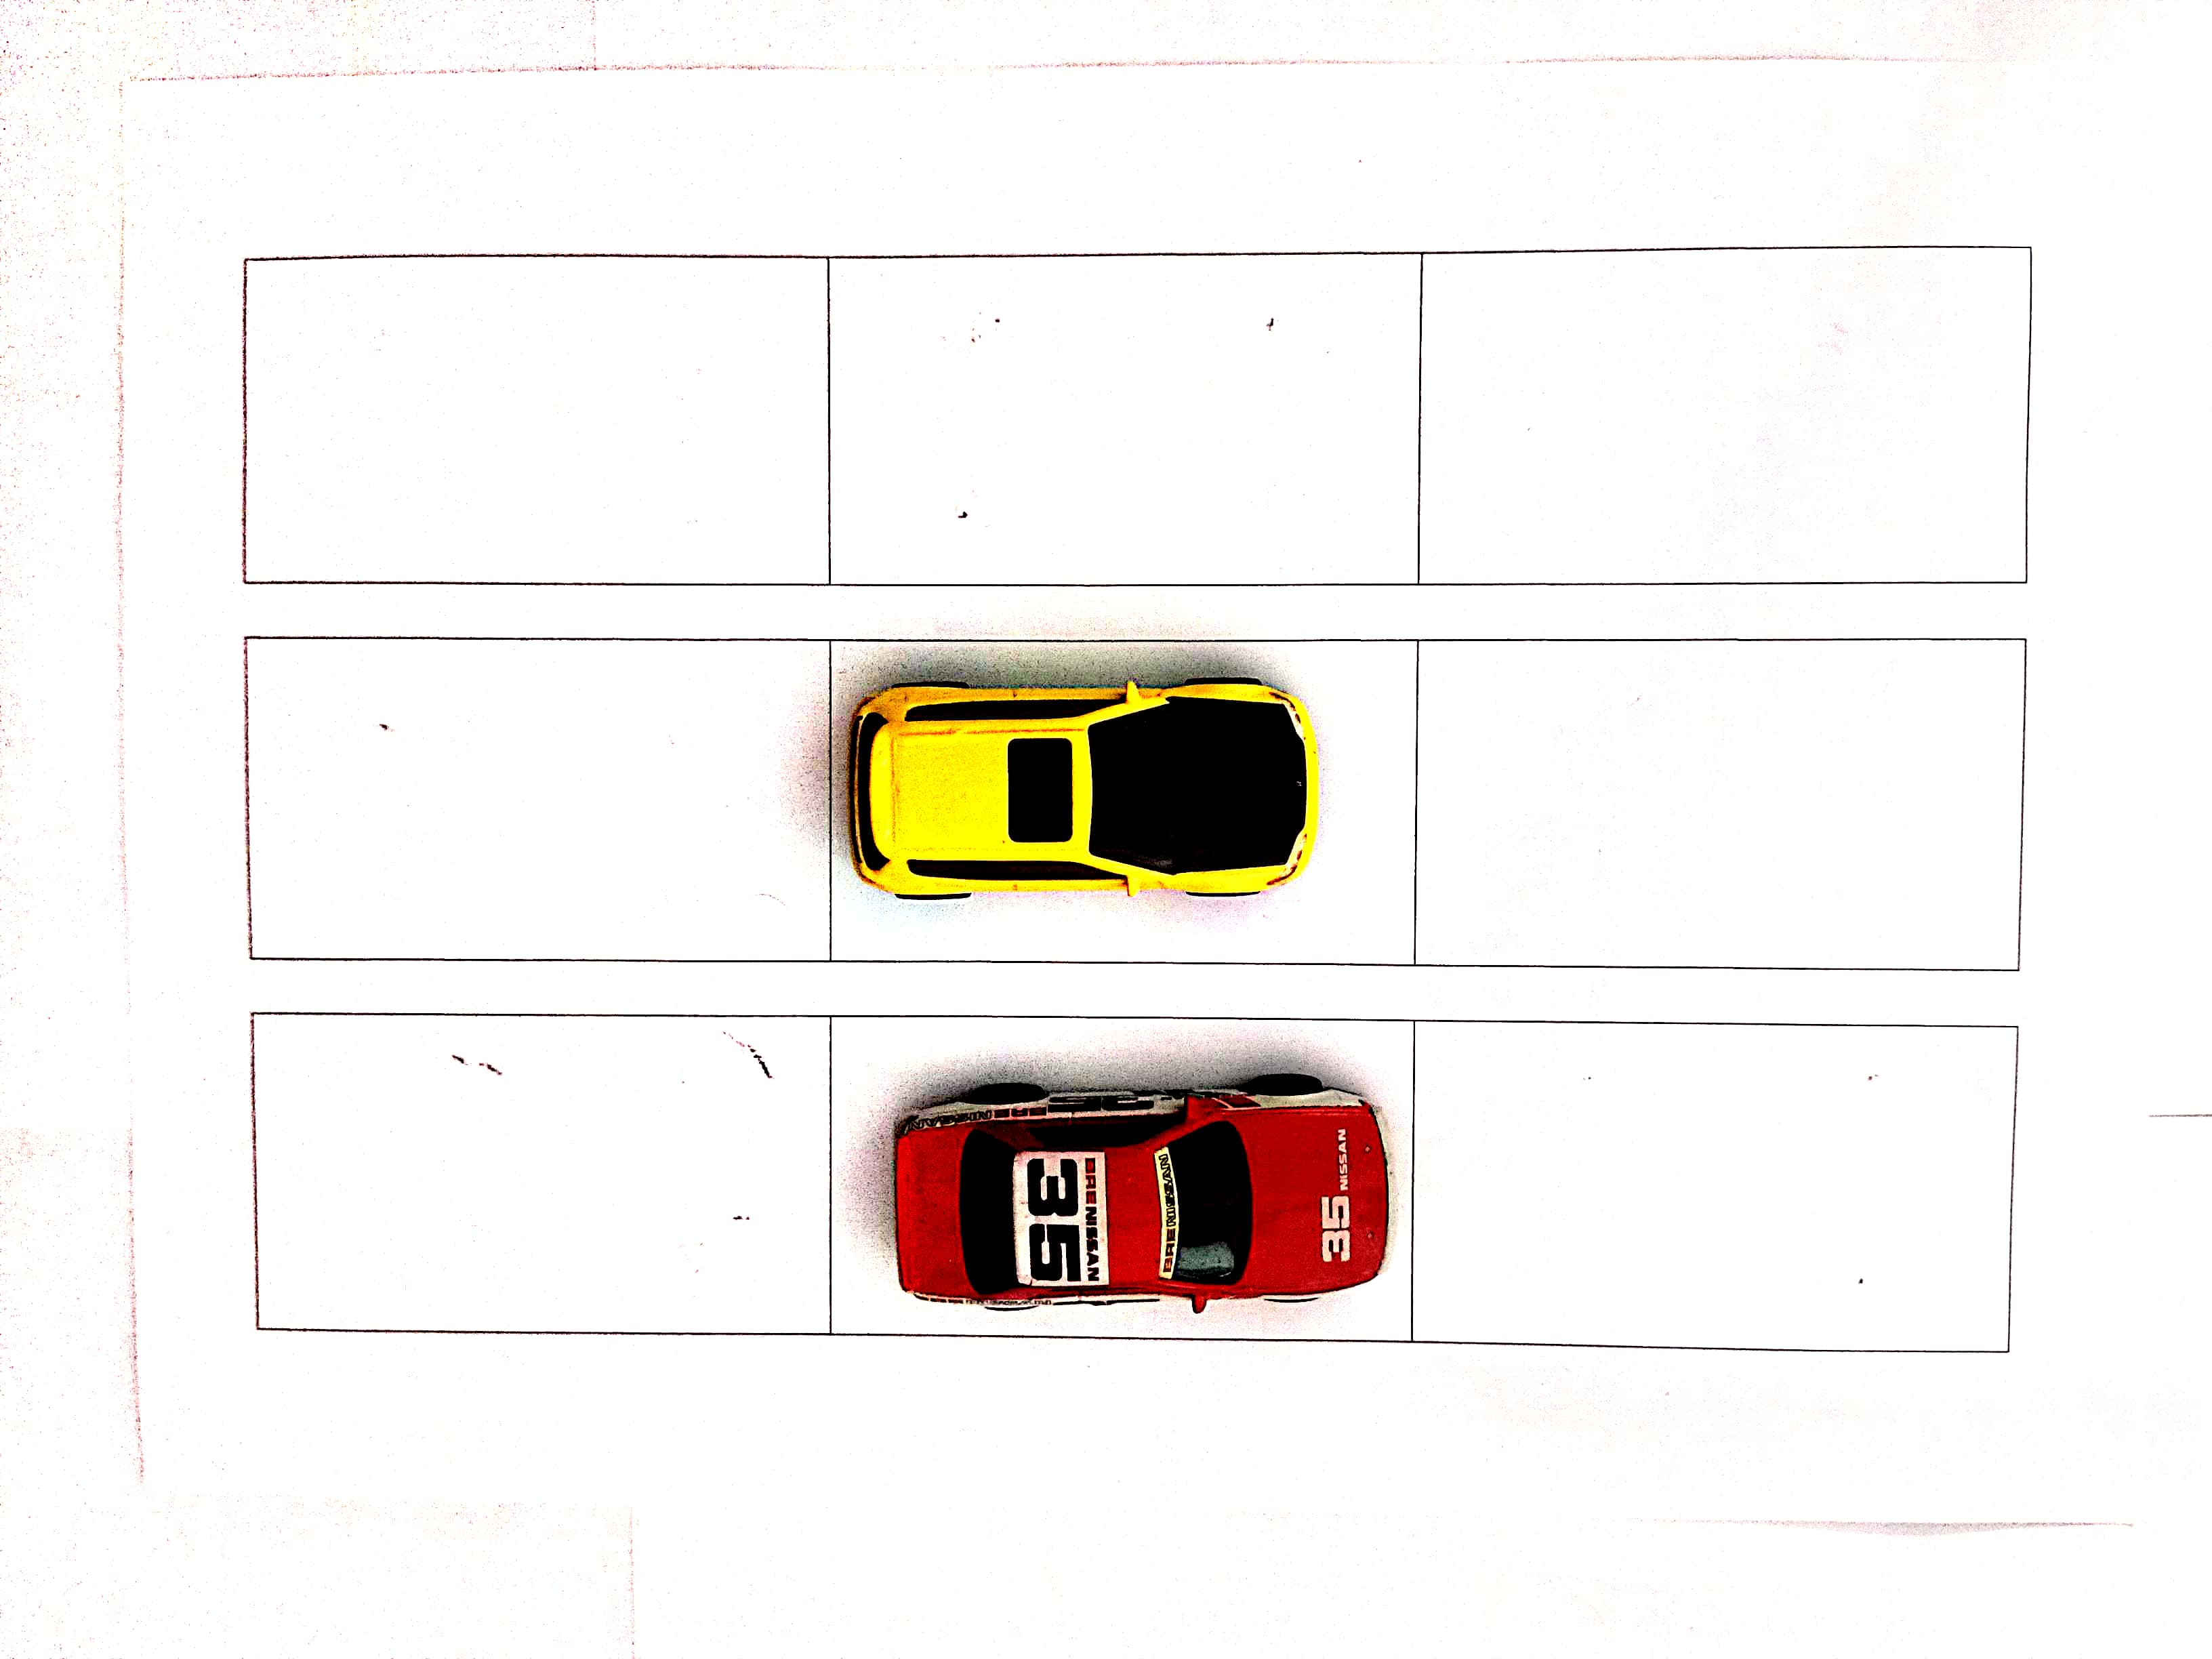Busy: (827, 634, 1413, 962), (834, 1019, 1413, 1342)
Free: (1409, 1014, 2017, 1351), (1421, 247, 2026, 580), (834, 253, 1421, 582), (1414, 643, 2017, 962), (247, 1006, 833, 1331), (247, 253, 829, 580), (239, 638, 827, 960)
